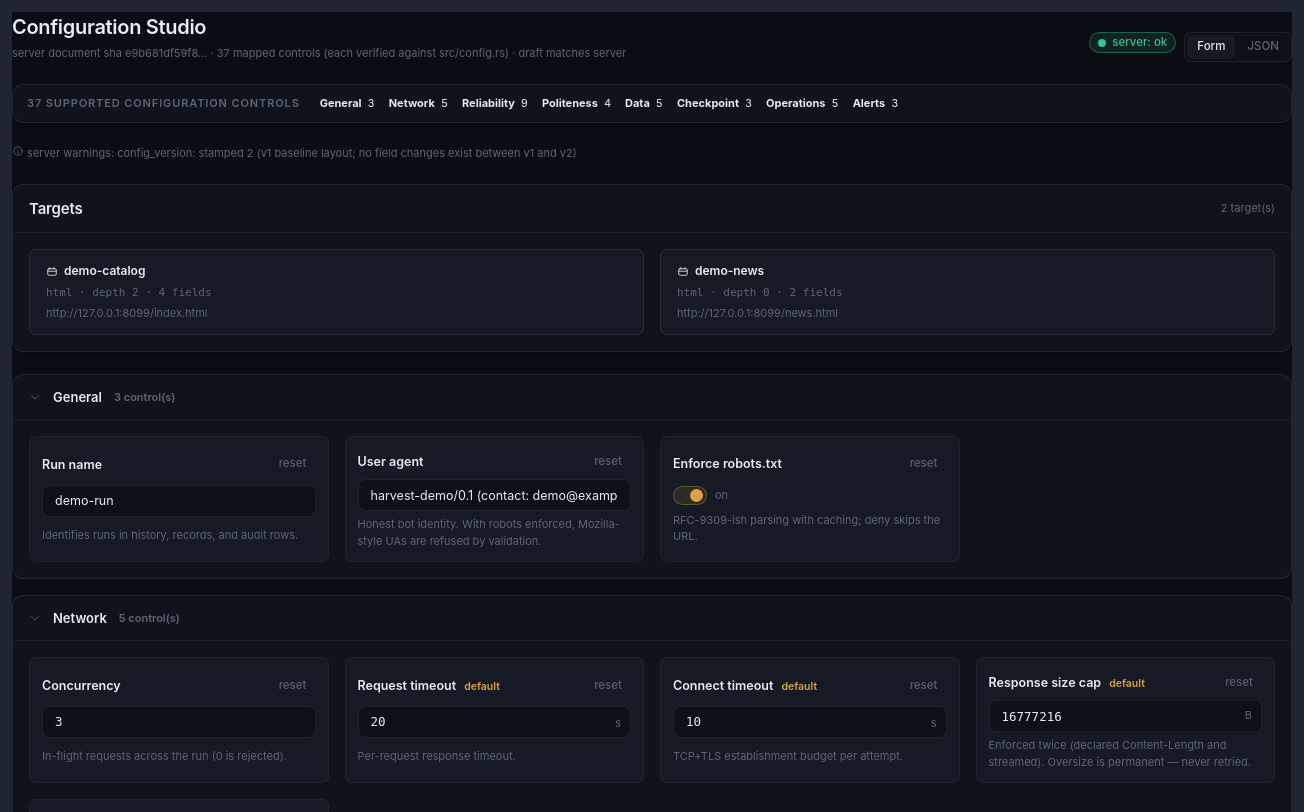
Scenario: ConfigStudio (draft-only editor over GET /config) › marks exactly one control dirty when edited and resets it back to the server value
Expected: the text "draft matches server" is shown, 518,46 -> 626,60
Step 1. Replace the text in the field below "Concurrency" with "6" → (179,722), box 42,706 -> 316,738
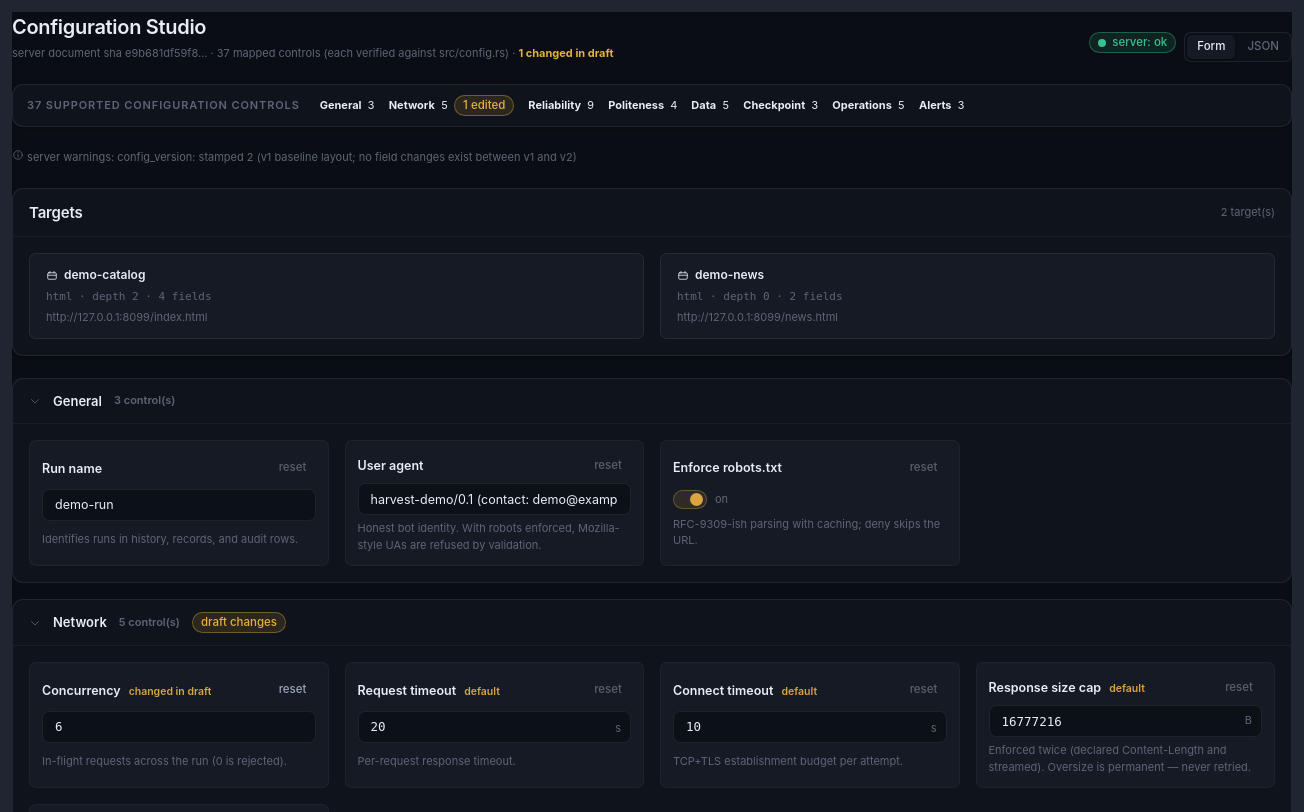
Now the text "1 changed in draft" is shown, box 518,46 -> 613,60
Now the text "changed in draft" is shown, box 523,46 -> 614,60
Step 2. Click the button with aria-label "reset Concurrency to server value" → (293,690), box 270,678 -> 316,703
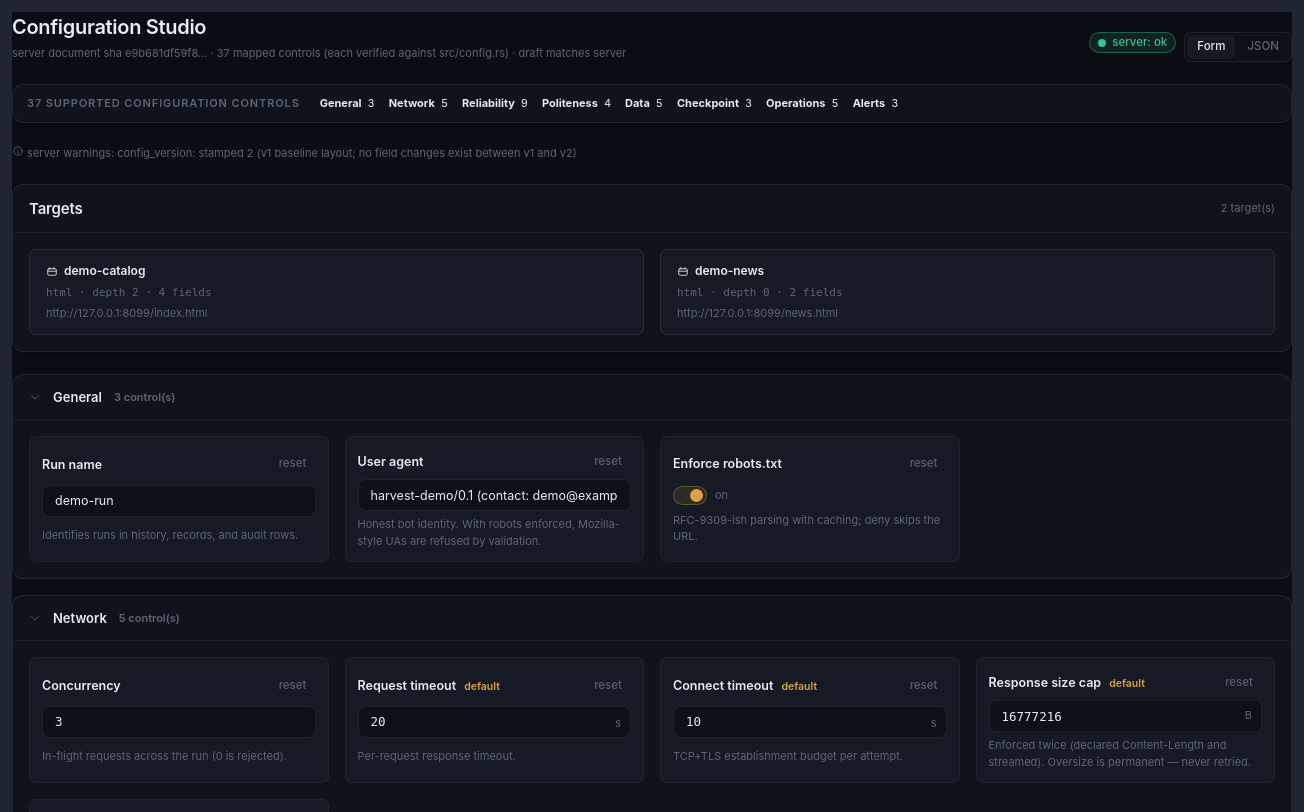
Now the text "draft matches server" is shown, box 518,46 -> 626,60
Now the field below "Concurrency" holds "3", box 42,706 -> 316,738
